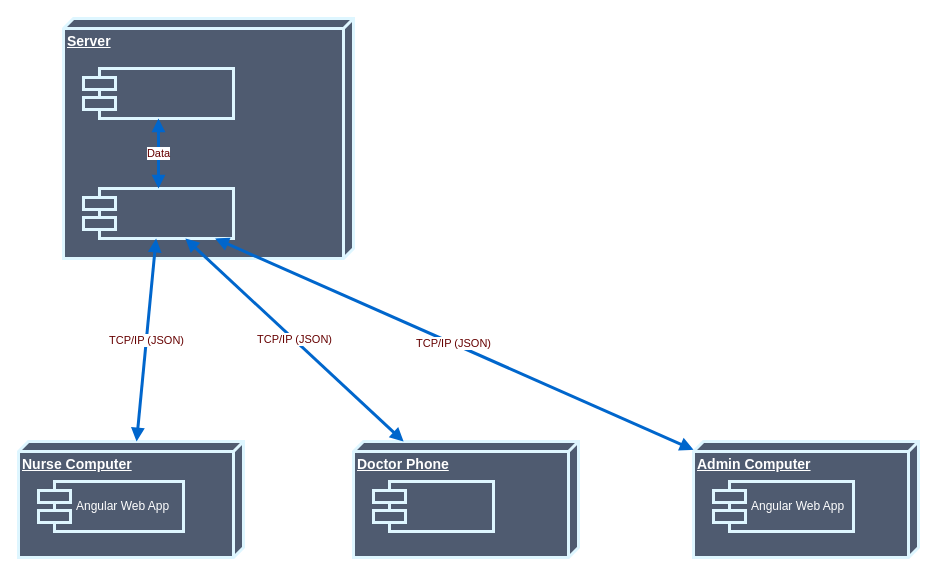
This 937x576 diagram has some shape labels left out. The centre of each missing label's shape, as x and y in pixels:
Android App: the point at 433,506
Flask Server: the point at 158,213
mySQL Server: the point at 158,93
